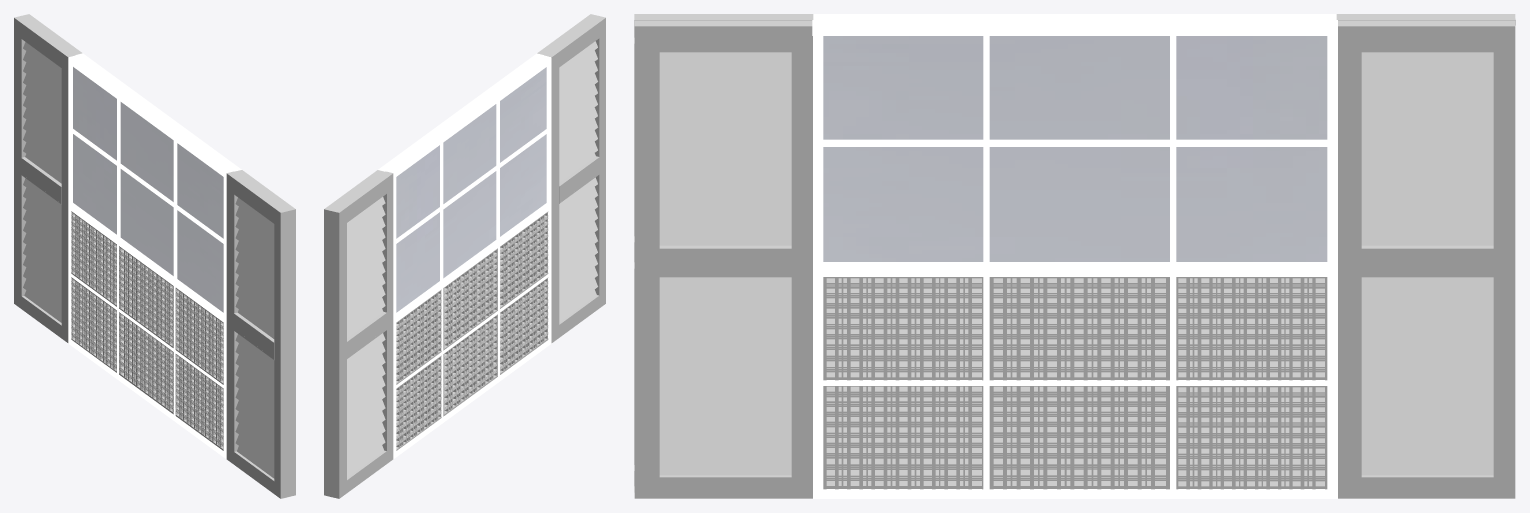
Rendered from window_with_shutters_6_grid_window.962dc36d.gltf.
The picture shows the model from 3 angles, left to right: view 1: azimuth 30°, elevation 25°; view 2: azimuth 150°, elevation 25°; view 3: azimuth 270°, elevation 25°; orthographic projection. The views are drawn at different scales.
Visible parts, largest first — view 1: Shutters, window, shutters_inside_trims1, shutters_inside_trims2, trims, inside_trims; view 2: Shutters, window, shutters_inside_trims2, shutters_inside_trims1, trims, inside_trims; view 3: Shutters, window, shutters_inside_trims1, shutters_inside_trims2, trims, inside_trims.
Boxes of the visible parts, x1,y1,x2,y2 form: Shutters: (14,14,295,498); window: (73,67,223,312); shutters_inside_trims1: (71,211,223,384); shutters_inside_trims2: (71,277,223,450); trims: (68,53,241,459); inside_trims: (71,99,223,415); Shutters: (324,14,605,498); window: (396,67,546,312); shutters_inside_trims2: (396,277,548,450); shutters_inside_trims1: (396,211,548,384); trims: (378,53,551,459); inside_trims: (396,101,548,417); Shutters: (634,14,1515,498); window: (823,36,1327,261); shutters_inside_trims1: (823,277,1327,380); shutters_inside_trims2: (823,386,1327,489); trims: (812,14,1337,498); inside_trims: (823,36,1327,489).
Size of the model in its own units: 0.2883 by 5.03 by 8.49.
Materials: 6 (1 with a texture image).
